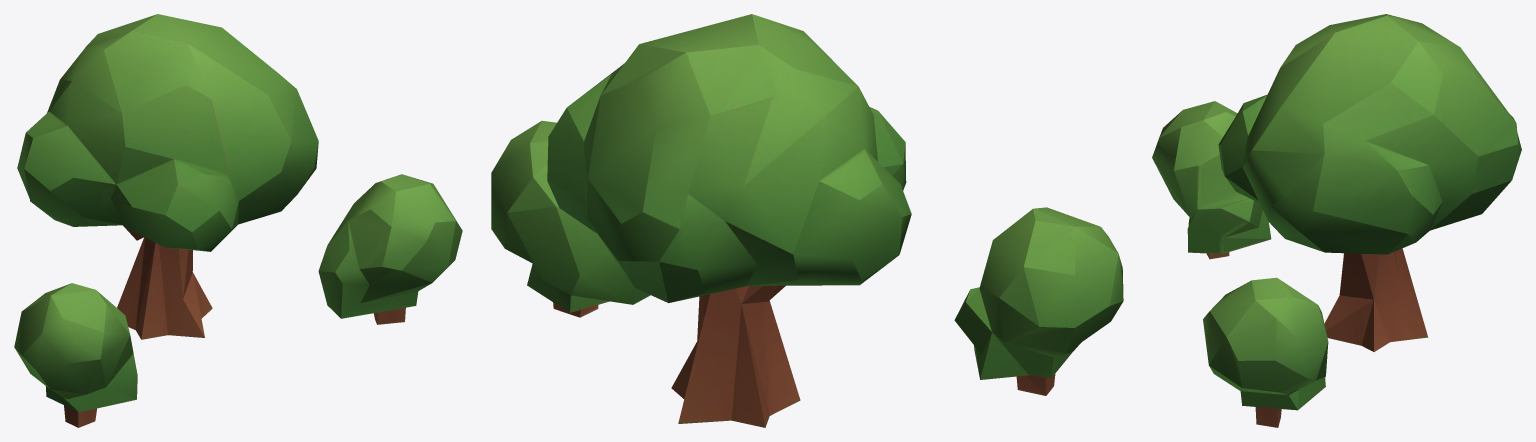
File: arvores.glb
3 views of the same model, side by side, from view 1: azimuth 30°, elevation 25°; view 2: azimuth 150°, elevation 25°; view 3: azimuth 270°, elevation 25° (orthographic). The views are drawn at different scales.
Bounding box in the file's own units: 1.89 × 1.18 × 1.3.
1 material, 1 textured.
